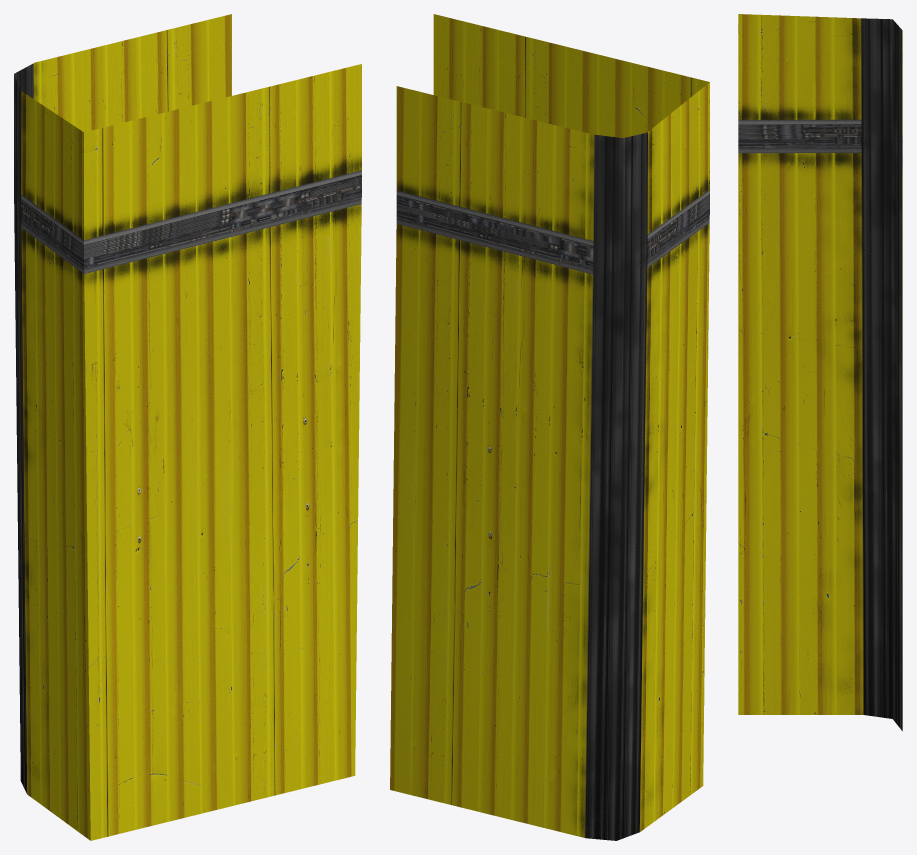
File: Gate001.fbx
3 renders of one model, left to right at view 1: azimuth 30°, elevation 25°; view 2: azimuth 150°, elevation 25°; view 3: azimuth 270°, elevation 25°, orthographic.
Visible parts, largest first — view 1: Gate001; view 2: Gate001; view 3: Gate001.
Part boxes in pixels (x1,y1,x2,y2): Gate001: (14,14,361,840); Gate001: (390,14,709,840); Gate001: (738,14,902,730).
Bounding box in the file's own units: 60.96 × 149 × 31.79.
Materials: 1 (1 with a texture image).
